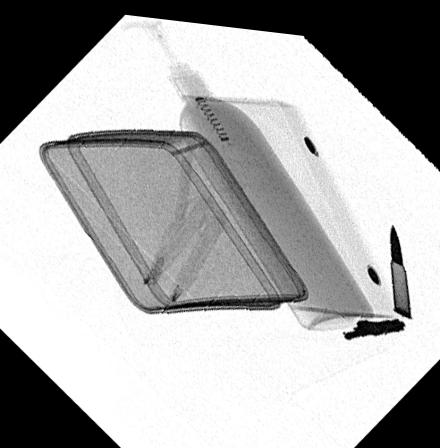Bullet: (390, 213, 411, 307)
Gun: (343, 309, 405, 330)
